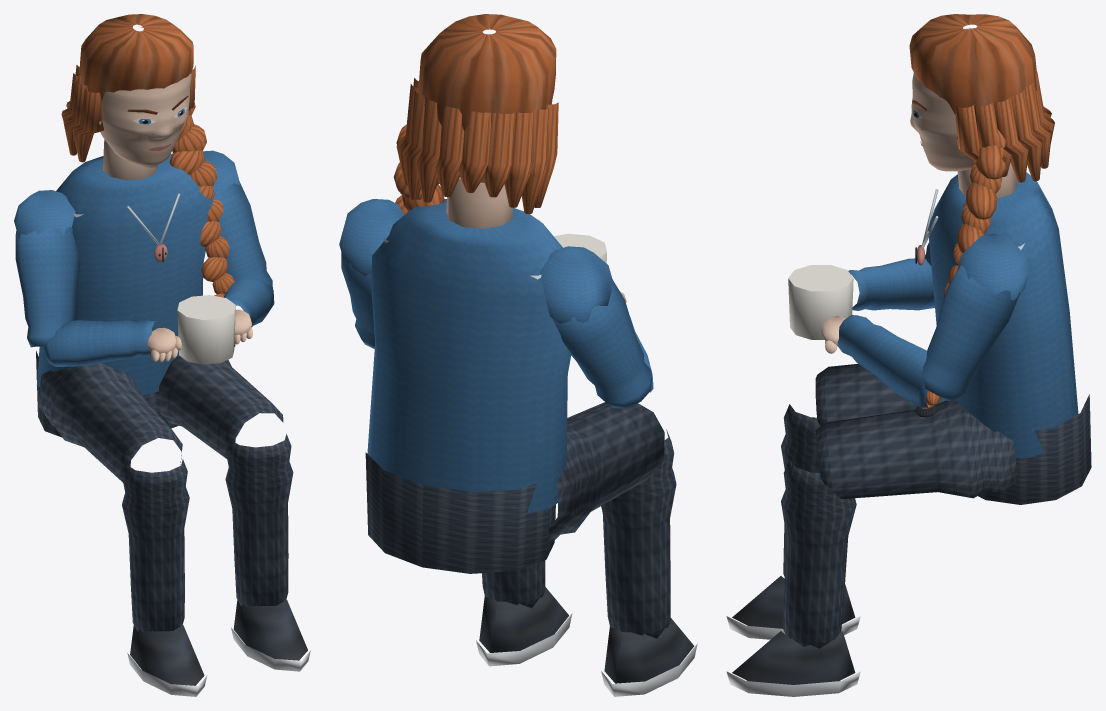
Rendered from HERO-04_emma-seated.glb.
The picture shows the model from 3 angles, left to right: view 1: azimuth 30°, elevation 25°; view 2: azimuth 150°, elevation 25°; view 3: azimuth 270°, elevation 25°; orthographic projection. The views are drawn at different scales.
Visible parts, largest first — view 1: emma · soles; view 2: emma · soles; view 3: emma · soles.
Part boxes in pixels (box(x1,y1,x2,y2)): emma · soles: box(14, 14, 310, 696); emma · soles: box(339, 14, 697, 696); emma · soles: box(726, 14, 1091, 696).
Bounding box in the file's own units: 0.5477 × 1.26 × 0.6593.
Materials: 2 (2 with a texture image).
